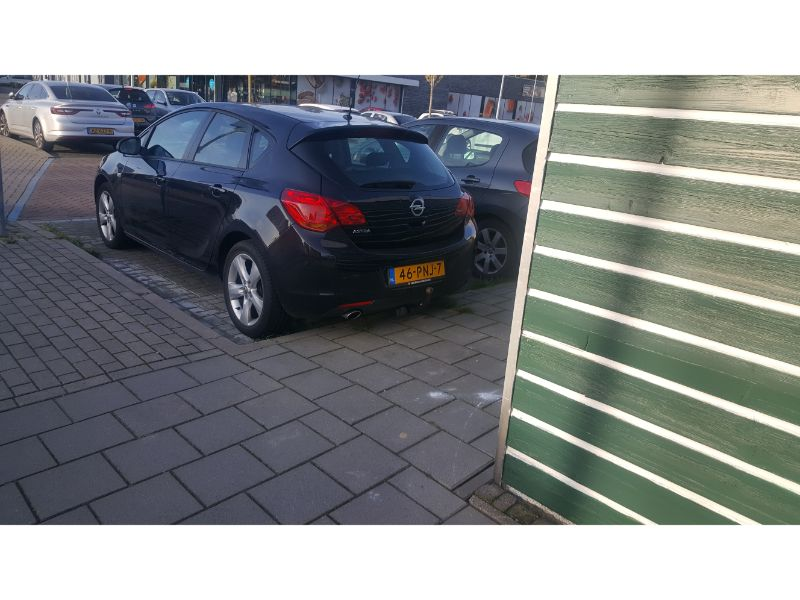kenteken: (386, 259, 449, 287)
